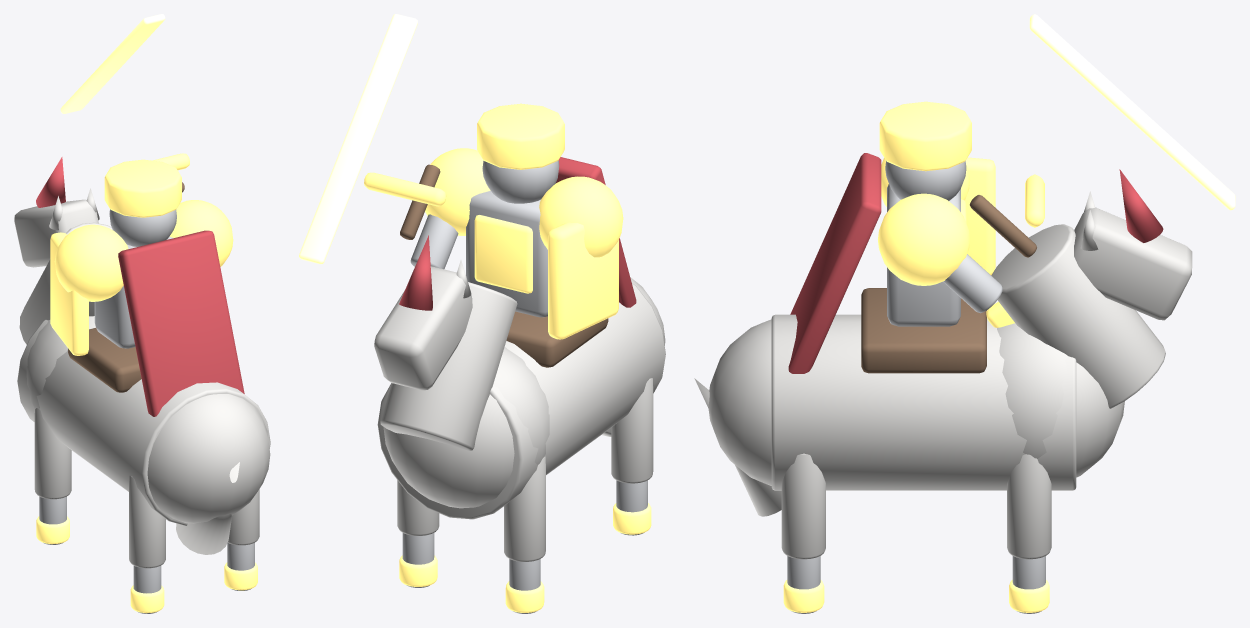
Rendered from hero_arthuria.glb.
3 renders of one model, left to right at view 1: azimuth 30°, elevation 25°; view 2: azimuth 150°, elevation 25°; view 3: azimuth 270°, elevation 25°, orthographic. The views are drawn at different scales.
Visible parts, largest first — view 1: StaticBody, Anim_Weapon; view 2: StaticBody, Anim_Weapon; view 3: StaticBody, Anim_Weapon.
Part boxes in pixels (left/top/right/bottom): StaticBody: left=14, top=157, right=270, bottom=613; Anim_Weapon: left=60, top=14, right=189, bottom=192; StaticBody: left=374, top=103, right=665, bottom=613; Anim_Weapon: left=299, top=14, right=458, bottom=269; StaticBody: left=694, top=101, right=1192, bottom=613; Anim_Weapon: left=943, top=14, right=1235, bottom=313.
Bounding box in the file's own units: 1.31 × 3.55 × 2.93.
